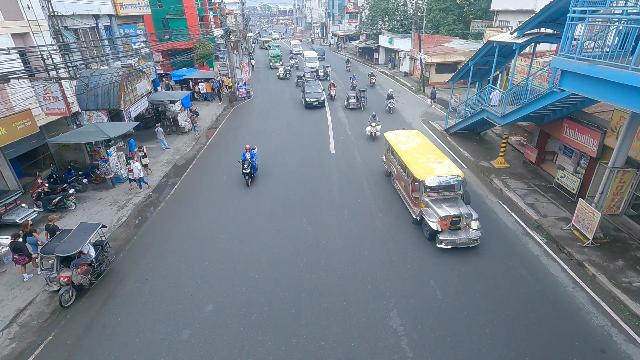car: (301, 77, 326, 110), (271, 32, 279, 40)
jeepney: (381, 128, 482, 250), (268, 49, 284, 68), (258, 36, 272, 49), (268, 42, 283, 52)
motorcycle: (238, 144, 261, 188), (366, 115, 381, 143), (384, 88, 396, 114), (328, 79, 338, 102), (367, 70, 377, 89), (349, 74, 358, 91), (345, 57, 351, 72), (289, 53, 295, 67), (294, 57, 299, 70), (282, 32, 285, 39), (280, 33, 283, 40)
van: (302, 51, 320, 71), (311, 45, 326, 61), (289, 41, 303, 54), (291, 33, 302, 42)
